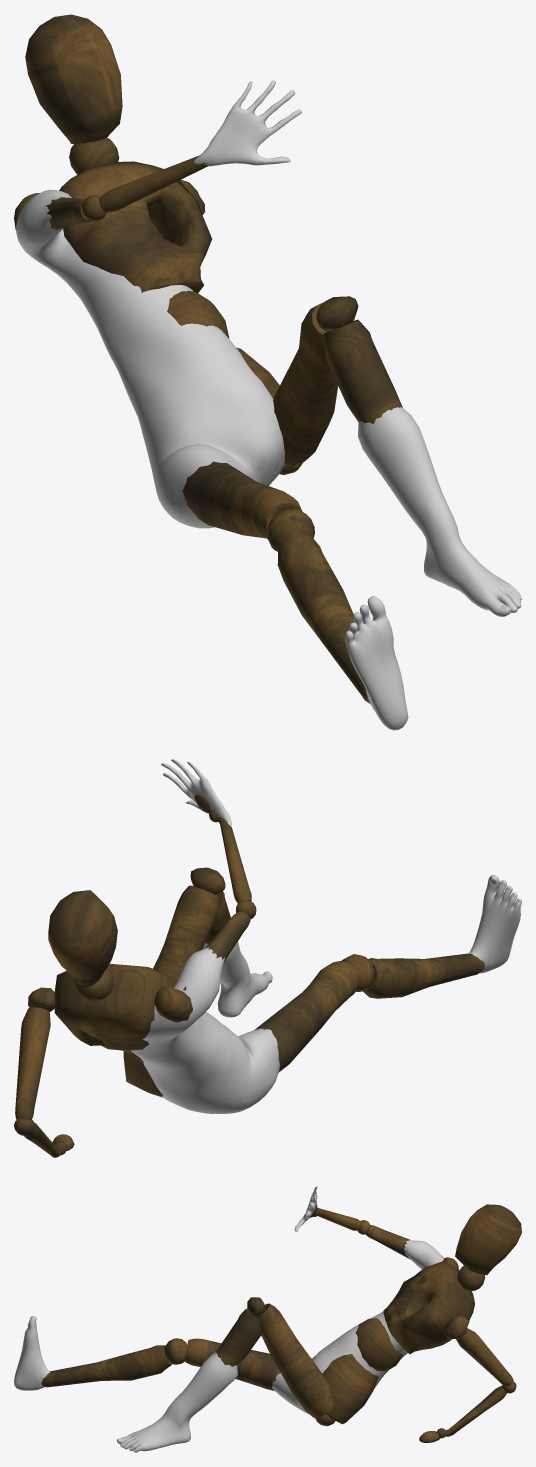
File: enemigo1_pose4.fbx
3 renders of one model, top to bottom at view 1: azimuth 30°, elevation 25°; view 2: azimuth 150°, elevation 25°; view 3: azimuth 270°, elevation 25°, orthographic. The views are drawn at different scales.
Parts seen in each view (by area): view 1: dummy_obj.003, Body.004; view 2: dummy_obj.003, Body.004; view 3: dummy_obj.003, Body.004.
Boxes of the visible parts, box(x1,y1,x2,y2) form: dummy_obj.003: box(14, 14, 402, 703); Body.004: box(16, 80, 521, 730); dummy_obj.003: box(14, 794, 484, 1157); Body.004: box(131, 759, 521, 1113); dummy_obj.003: box(41, 1204, 521, 1442); Body.004: box(14, 1186, 443, 1452).
Size of the model in its own units: 51.57 by 77.93 by 151.
